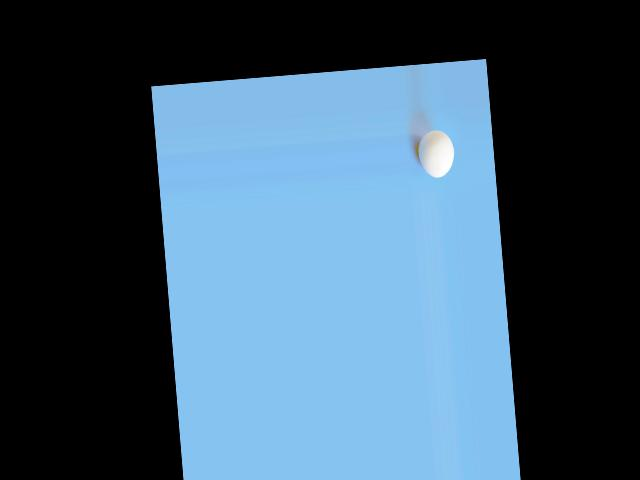egg: (416, 128, 455, 179)
